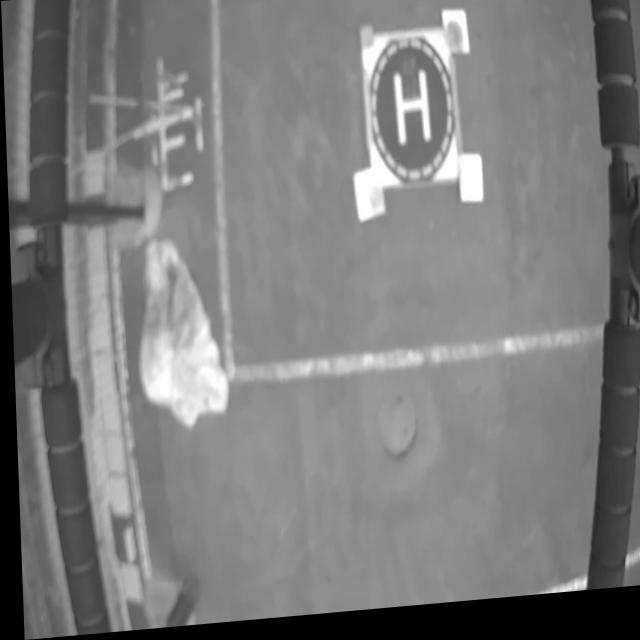Helipad: (391, 75, 429, 152)
